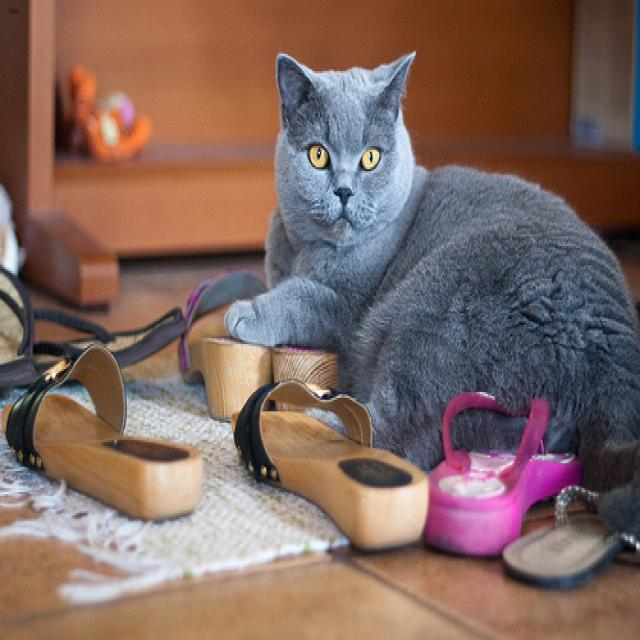British_Shorthair: (273, 50, 414, 244)
